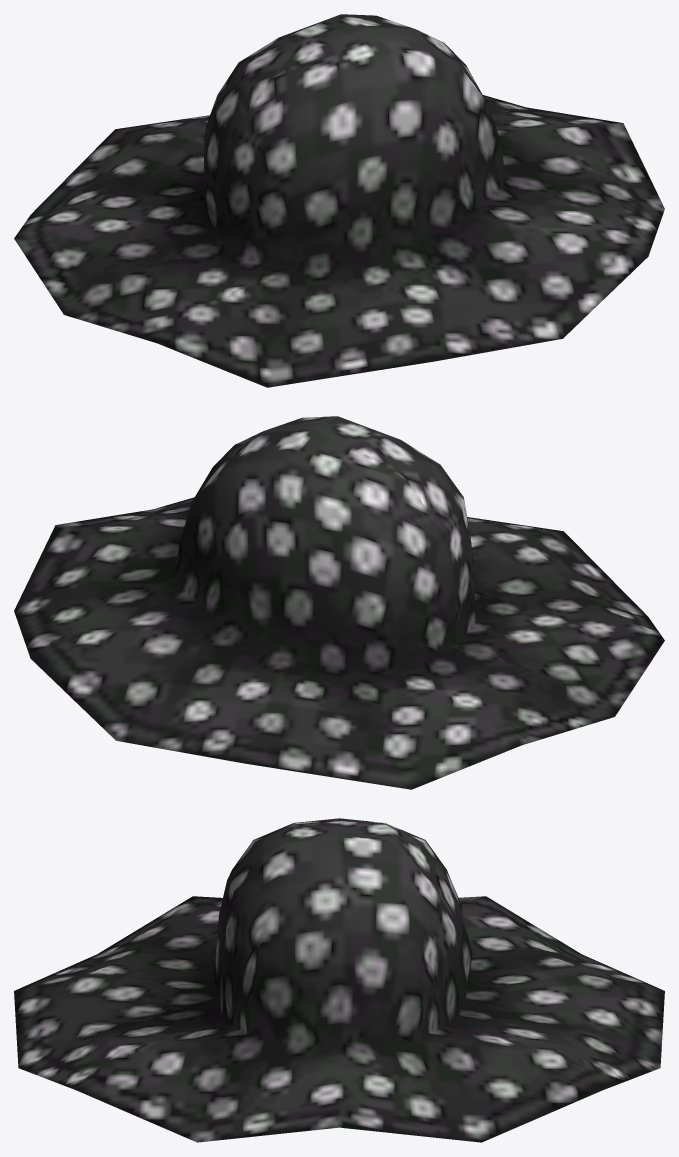
The model's file is hat_0450057.FBX.
3 views of the same model, one above another, from view 1: azimuth 30°, elevation 25°; view 2: azimuth 150°, elevation 25°; view 3: azimuth 270°, elevation 25° (orthographic). The views are drawn at different scales.
Parts seen in each view (by area): view 1: hat_0450057; view 2: hat_0450057; view 3: hat_0450057.
Boxes of the visible parts, <box> form: hat_0450057: <box>14,14,664,387</box>; hat_0450057: <box>14,416,664,789</box>; hat_0450057: <box>14,818,664,1142</box>.
Size of the model in its own units: 53.9 by 20.33 by 53.02.
